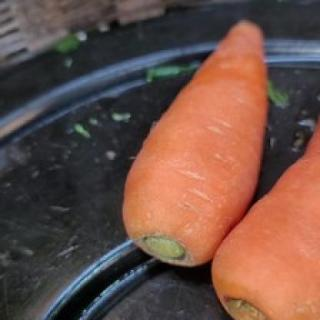Wortel: (119, 21, 268, 268)
